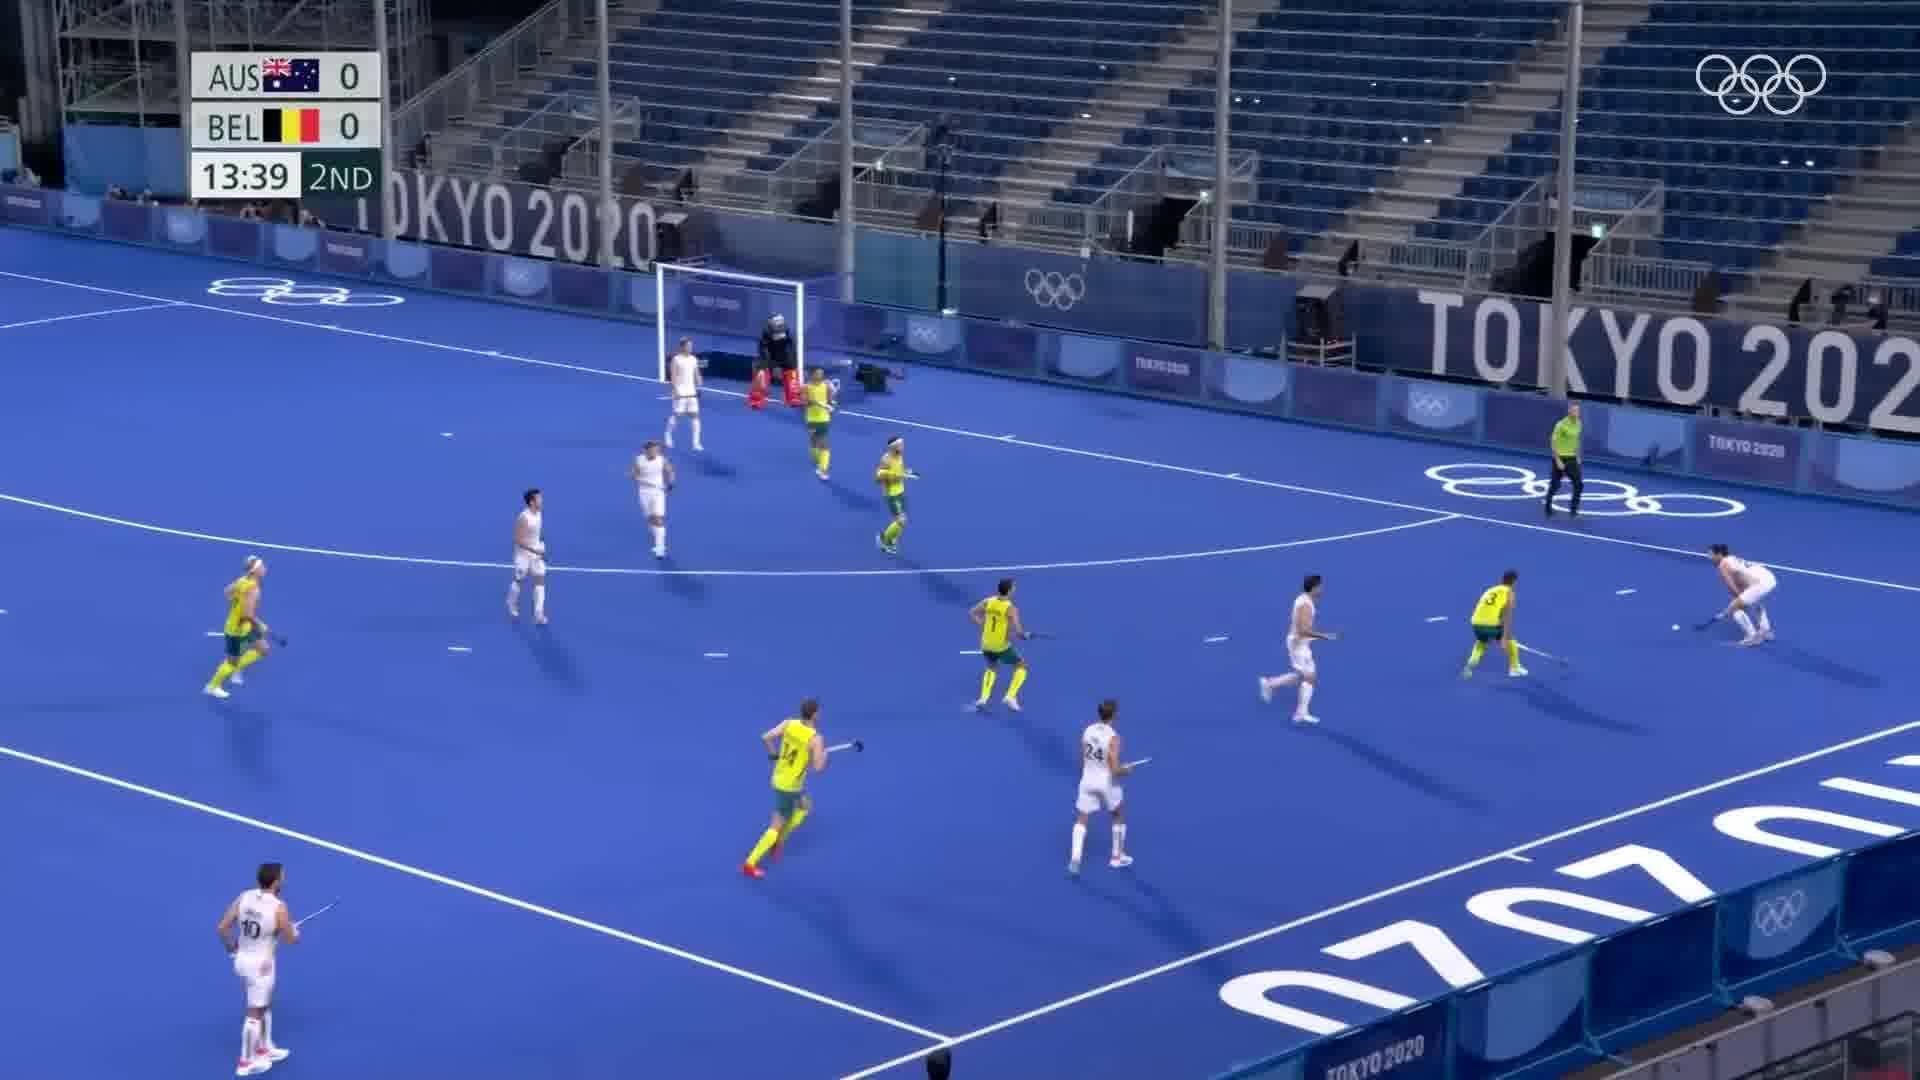ball: (1665, 622, 1685, 638)
